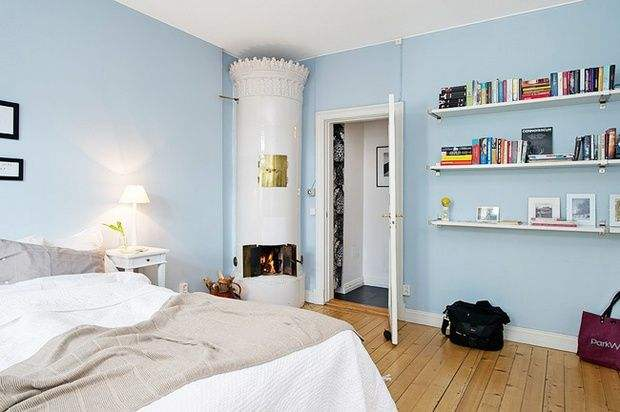床: (0, 281, 394, 411)
枕头: (2, 236, 112, 281)
灯: (113, 180, 148, 254)
